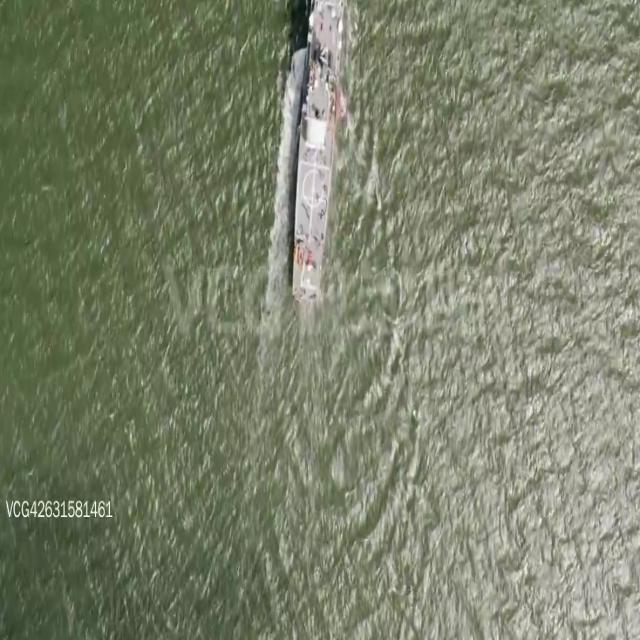navalvessels: (286, 0, 343, 302)
